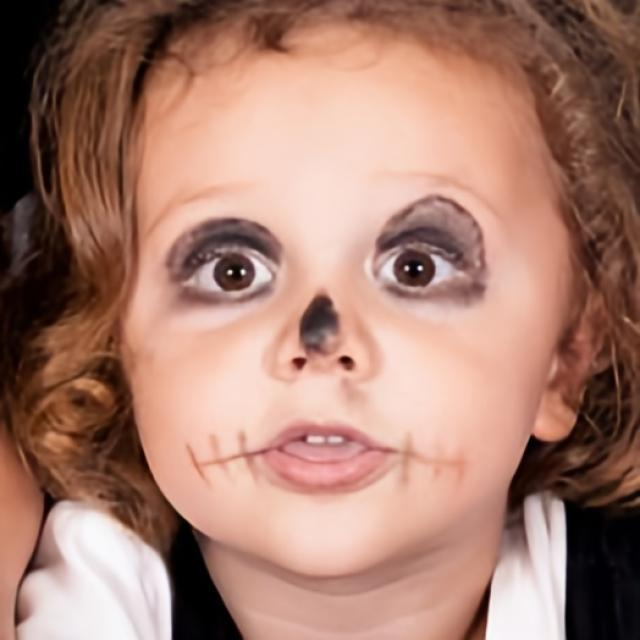surprise: (118, 30, 574, 579)
